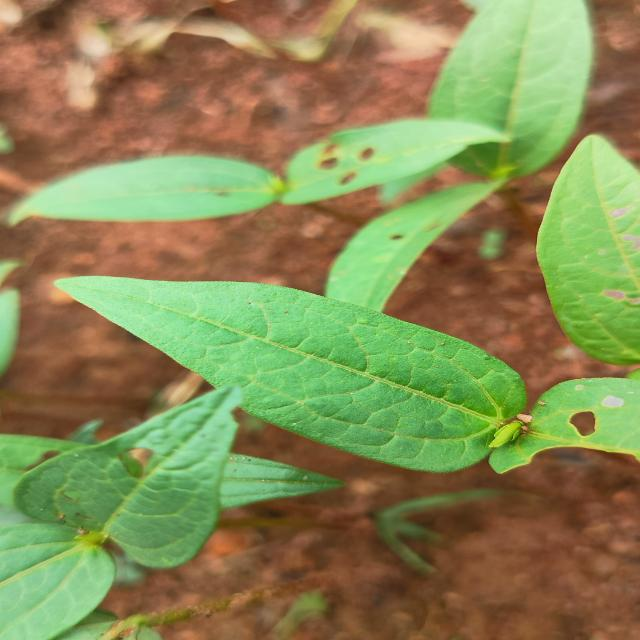Black gram_healthy: (57, 268, 519, 474), (14, 386, 247, 568), (429, 0, 587, 187), (533, 128, 640, 358)
